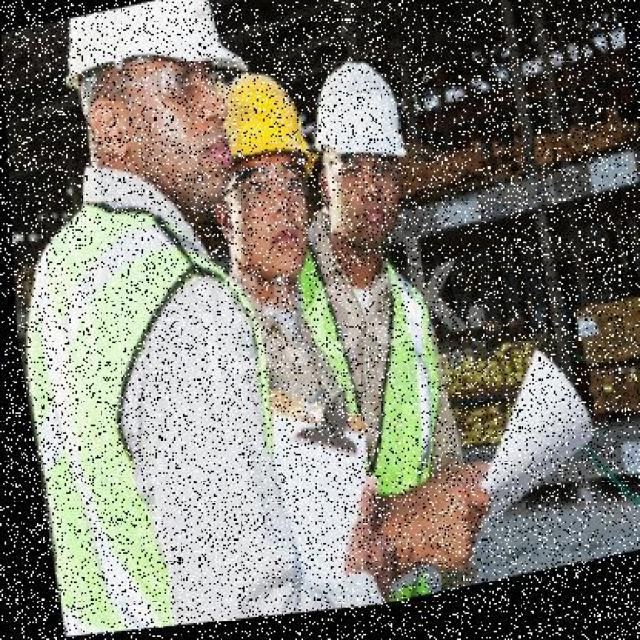helmet: (299, 59, 409, 200)
